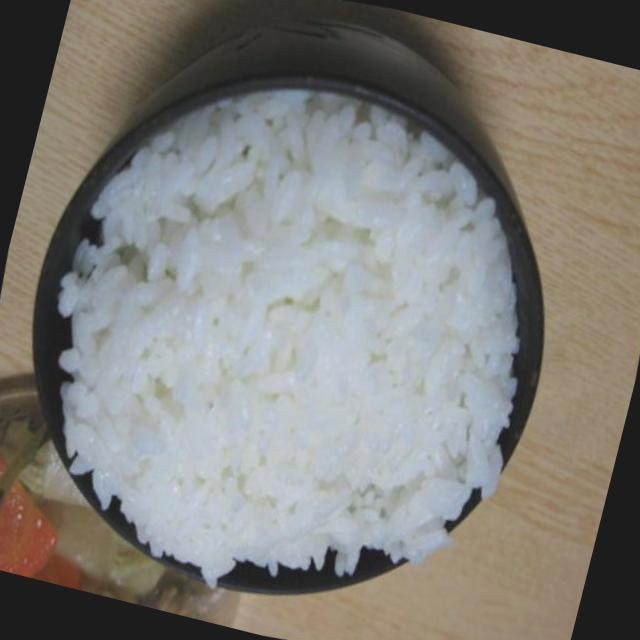Rice: (0, 20, 594, 640)
